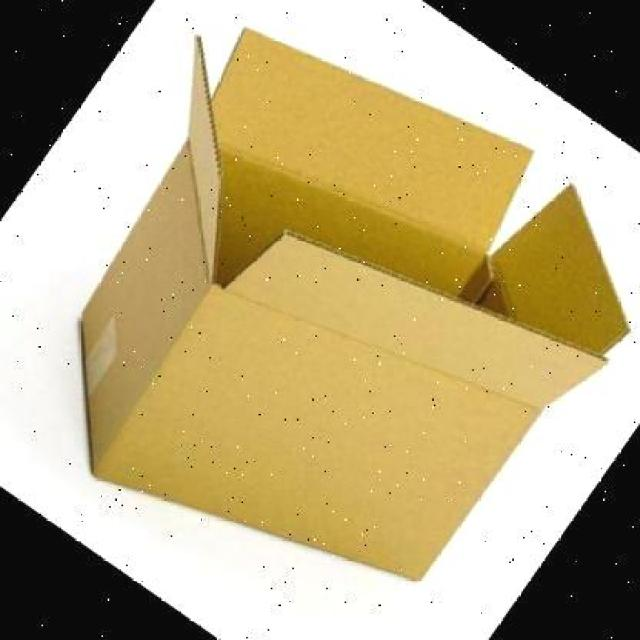box: (79, 25, 631, 584)
opened: (187, 26, 632, 412)
